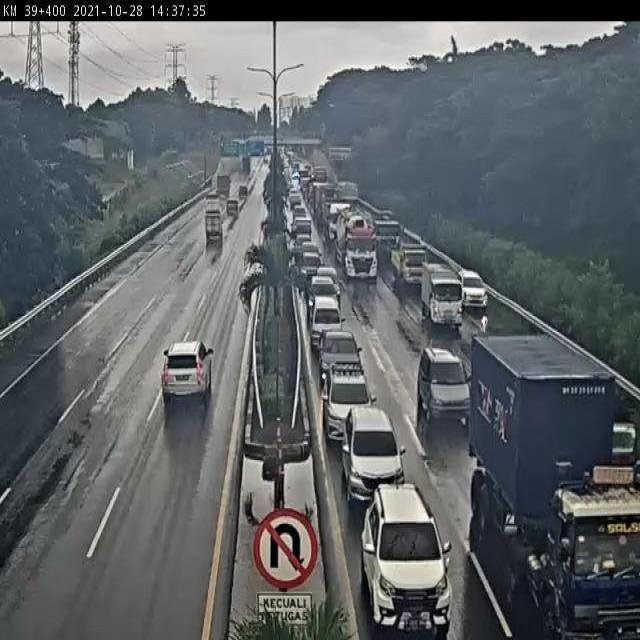big truck: (344, 215, 387, 285)
car: (365, 472, 458, 629), (342, 400, 406, 501), (165, 325, 214, 415), (421, 338, 469, 426), (325, 365, 372, 447), (426, 263, 466, 336), (323, 324, 362, 383), (310, 290, 339, 354), (460, 263, 488, 317), (393, 243, 427, 285), (304, 276, 339, 297), (303, 251, 321, 281), (317, 264, 336, 292), (302, 239, 321, 265)
small truck: (203, 208, 226, 244)
